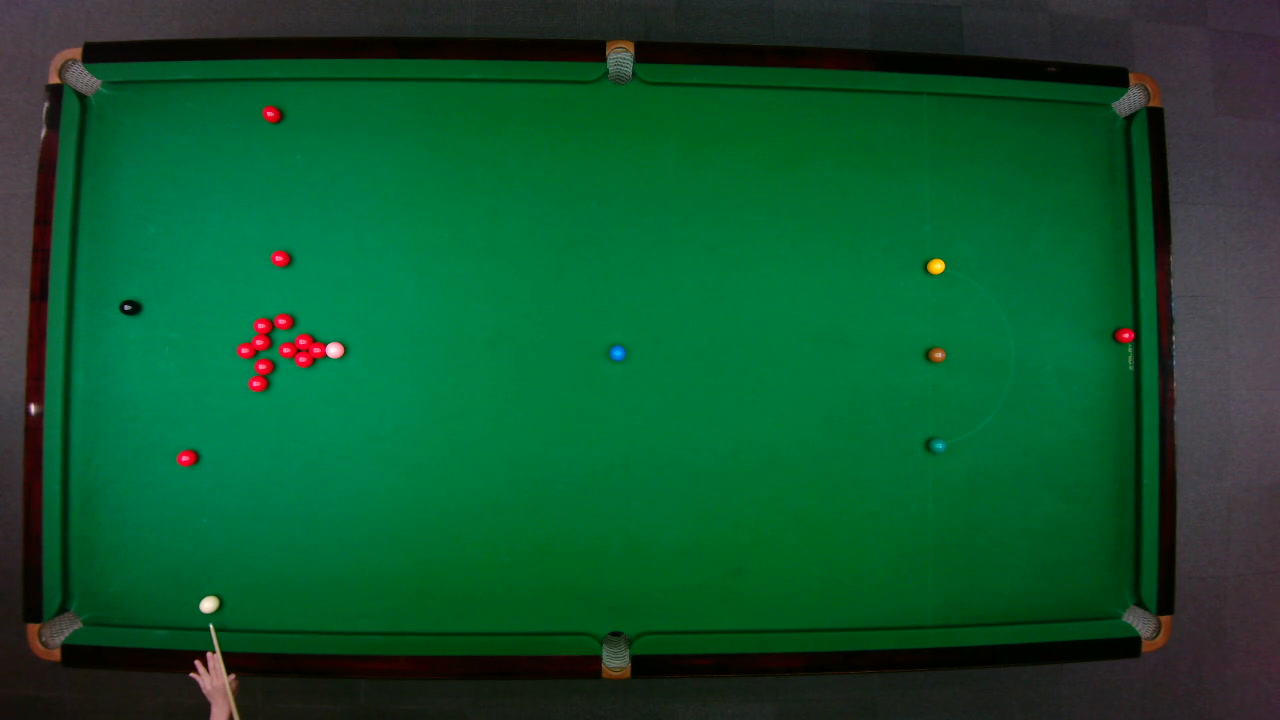bag: (24, 609, 84, 661), (46, 46, 102, 96), (1119, 603, 1172, 652), (1109, 71, 1161, 118), (600, 629, 629, 680), (605, 38, 633, 85)
black: (118, 298, 139, 315)
blue: (607, 343, 626, 361)
brown: (926, 346, 946, 362)
cue: (205, 623, 239, 720)
green: (926, 435, 946, 453)
pink: (323, 340, 345, 359)
red: (174, 448, 198, 467), (246, 374, 268, 392), (234, 340, 256, 358), (252, 357, 274, 375), (261, 104, 281, 123), (272, 312, 293, 330), (251, 316, 272, 334), (269, 249, 290, 267), (249, 333, 270, 351), (1113, 326, 1135, 343), (292, 350, 314, 367), (277, 340, 297, 358), (293, 332, 313, 349), (308, 340, 325, 359)
white: (197, 594, 220, 613)
yellow: (925, 256, 946, 274)
zone: (926, 265, 1013, 445)
